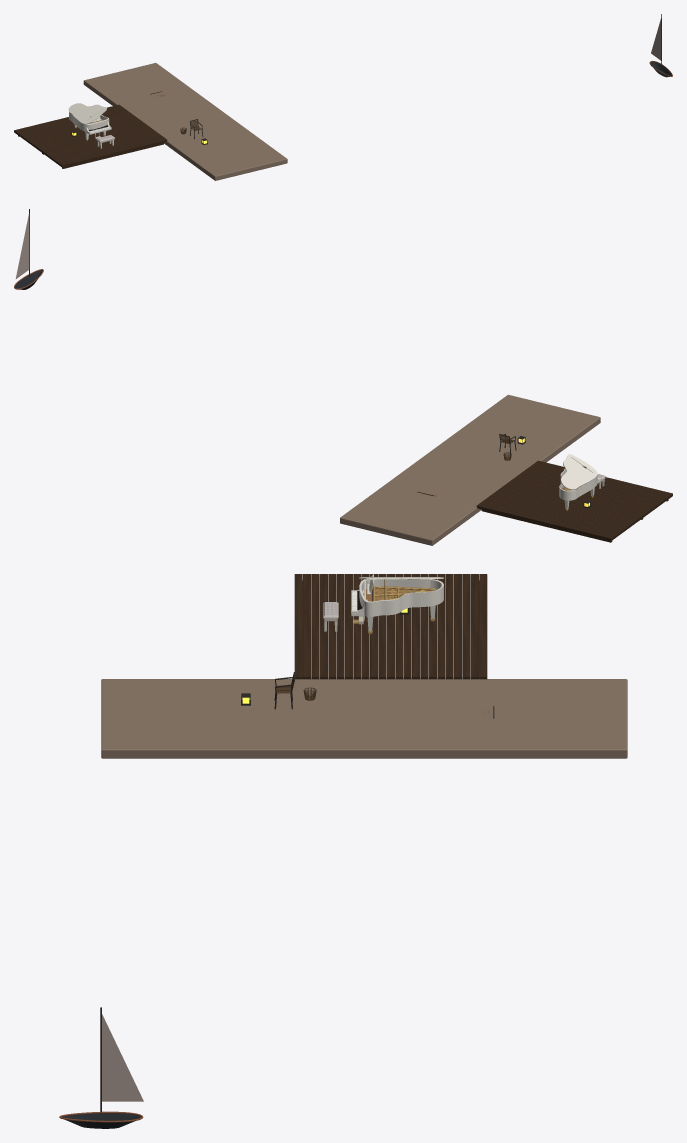
Rendered from piano_seaside_material.glb.
3 renders of one model, top to bottom at view 1: azimuth 30°, elevation 25°; view 2: azimuth 150°, elevation 25°; view 3: azimuth 270°, elevation 25°, orthographic. The views are drawn at different scales.
Parts seen in each view (by area): view 1: S01 local sand patch, P02 raised lid, D01 deck plank 00, P01 grand piano curved rim and bottom, D01 deck plank 02, D01 deck plank 01, D01 deck plank 03, D01 deck plank 04, D01 deck plank 10, D01 deck plank 05, V02 triangular sail, D01 deck plank 09; view 2: S01 local sand patch, P02 raised lid, D01 deck plank 22; view 3: S01 local sand patch, P01 grand piano curved rim and bottom, V02 triangular sail, D01 deck plank 02, D01 deck plank 18, D01 deck plank 20, D01 deck plank 21, D01 deck plank 22, D01 deck plank 00, D01 deck plank 05, V02_sailboat closed hull shell, D01 deck plank 01 (+2 smaller).
Part boxes in pixels (box(x1,y1,x2,y2)): S01 local sand patch: box(83, 63, 287, 180); P02 raised lid: box(68, 103, 106, 124); D01 deck plank 00: box(60, 138, 167, 167); P01 grand piano curved rim and bottom: box(69, 112, 109, 131); D01 deck plank 02: box(56, 135, 162, 163); D01 deck plank 01: box(58, 137, 164, 165); D01 deck plank 03: box(54, 134, 160, 162); D01 deck plank 04: box(51, 132, 158, 161); D01 deck plank 10: box(39, 123, 146, 151); D01 deck plank 05: box(49, 130, 156, 159); V02 triangular sail: box(651, 18, 661, 60); D01 deck plank 09: box(41, 124, 147, 153); S01 local sand patch: box(340, 394, 600, 545); P02 raised lid: box(560, 454, 597, 489); D01 deck plank 22: box(476, 504, 613, 540); S01 local sand patch: box(101, 679, 627, 758); P01 grand piano curved rim and bottom: box(359, 579, 443, 616); V02 triangular sail: box(102, 1014, 143, 1101); D01 deck plank 02: box(311, 574, 319, 679); D01 deck plank 18: box(445, 574, 453, 679); D01 deck plank 20: box(462, 574, 470, 679); D01 deck plank 21: box(470, 574, 478, 679); D01 deck plank 22: box(479, 574, 487, 679); D01 deck plank 00: box(294, 574, 302, 679); D01 deck plank 05: box(336, 574, 344, 679); V02_sailboat closed hull shell: box(62, 1113, 140, 1128); D01 deck plank 01: box(303, 574, 310, 679).
Size of what is drawn, in the model's own units: 39.06 by 3.99 by 17.27.
Materials: 16 (1 with a texture image).
